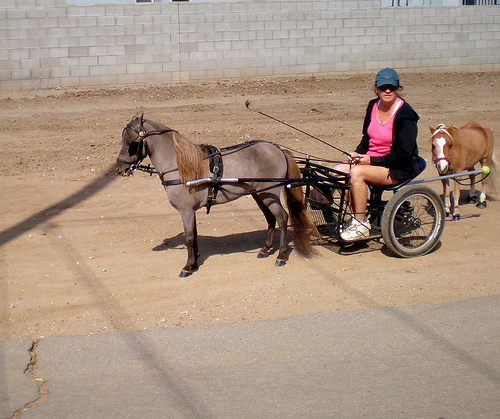horse: (115, 112, 320, 277), (425, 117, 500, 224)
